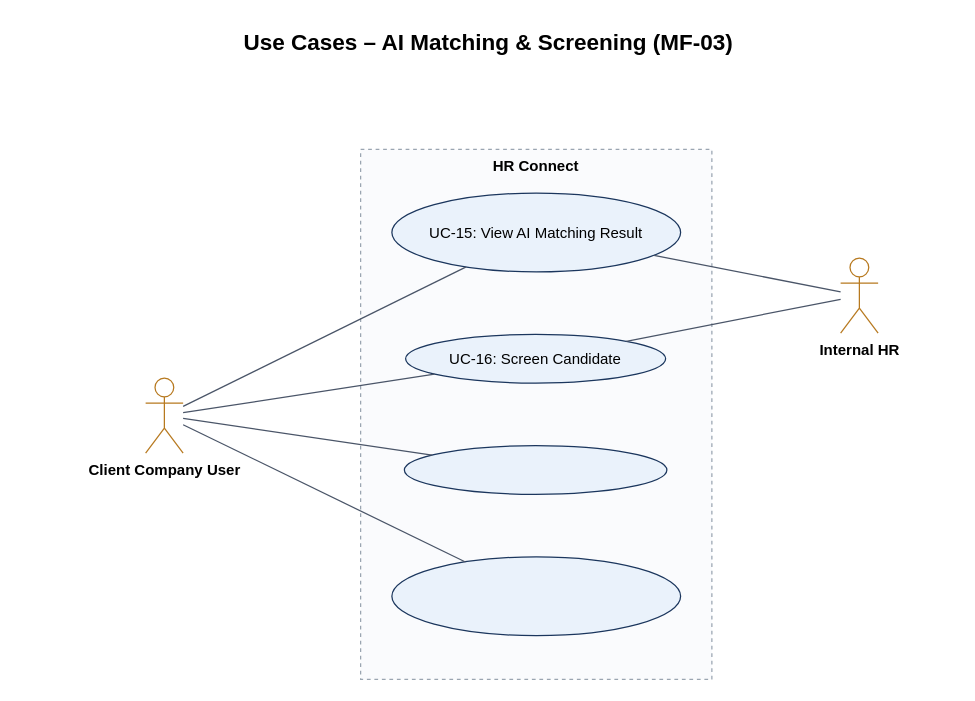
The diagram is 975 pixels wide and 701 high, and some of its shapes have lost their labels. The centre of each missing label's shape, as x and y in pixels:
UC-17: Review Candidate: (535,469)
UC-45: Review Delivered CVs (CV Sourcing): (536,596)
